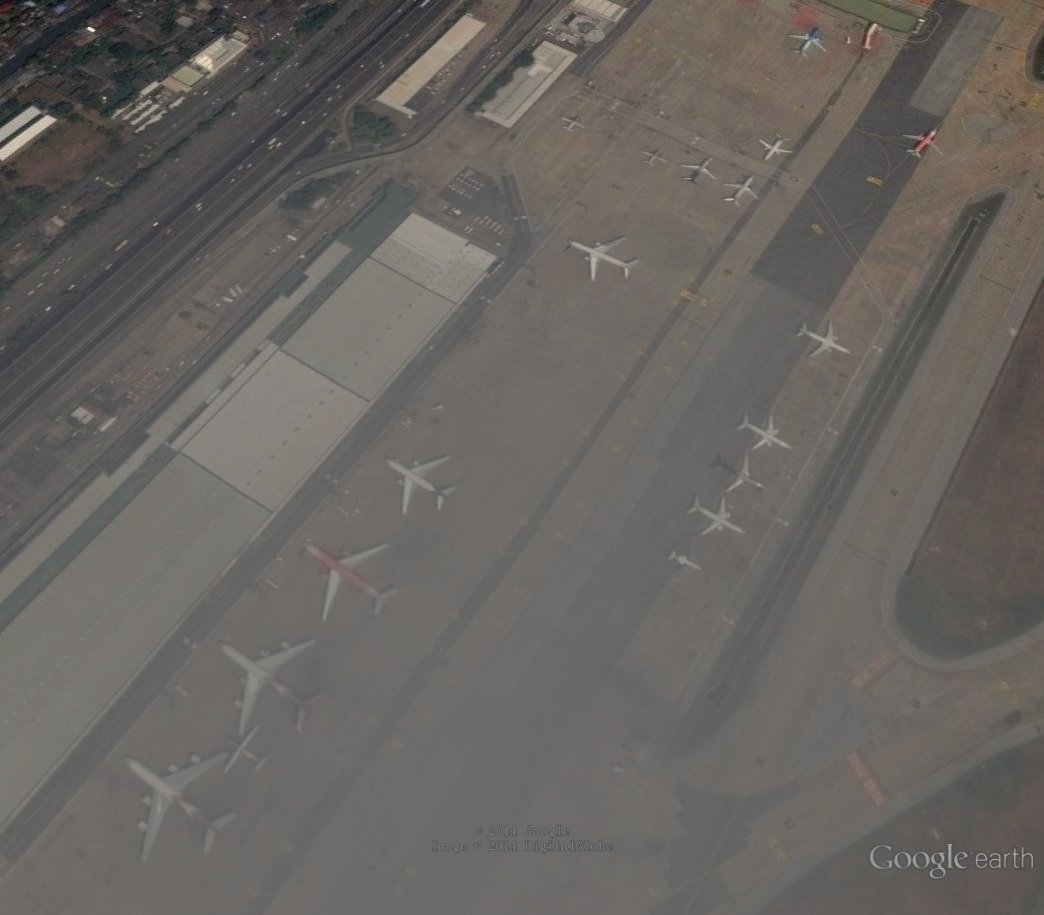aircraft: (121, 750, 243, 868), (216, 634, 328, 741), (303, 538, 399, 627), (384, 453, 459, 520), (565, 232, 642, 283), (681, 493, 751, 540), (217, 723, 271, 778), (795, 316, 856, 363), (708, 448, 769, 495), (733, 411, 799, 454), (898, 127, 949, 162), (786, 22, 828, 61), (720, 172, 762, 211), (675, 153, 720, 189), (756, 135, 796, 166), (664, 549, 705, 574), (639, 142, 673, 172), (561, 112, 588, 136)
